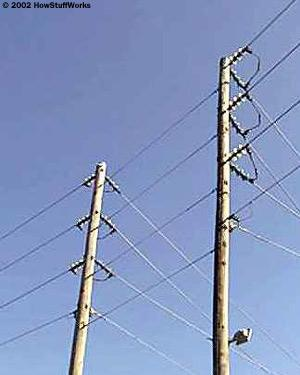utility_pole: (55, 154, 124, 330), (203, 38, 264, 195)
